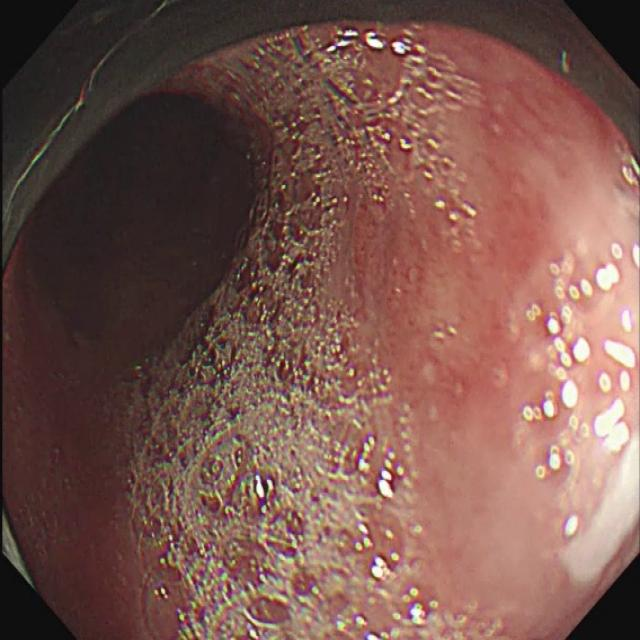E: (25, 89, 260, 371)
T: (135, 23, 484, 640)
U: (523, 241, 640, 541)
